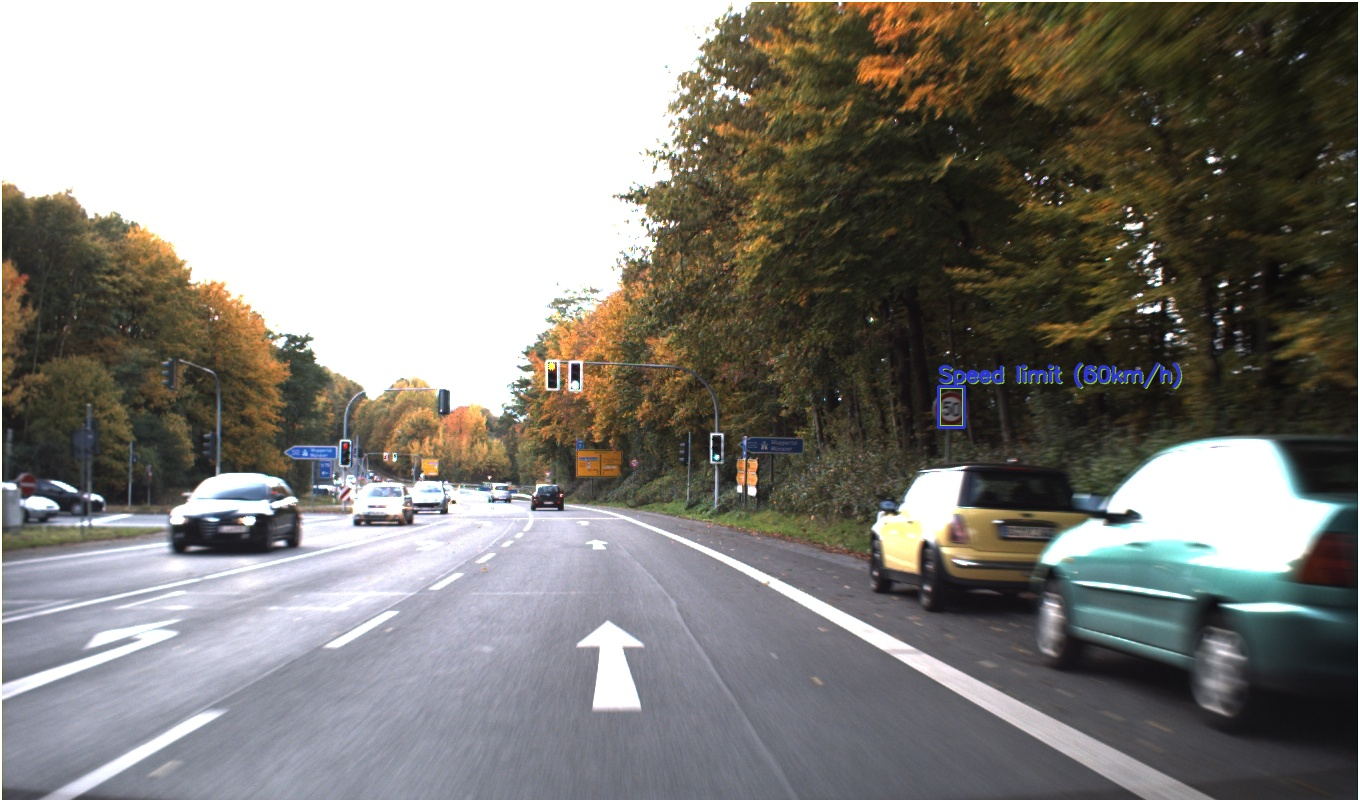Priority road: (1082, 393, 1120, 431)
Slippery road: (847, 472, 873, 496)
